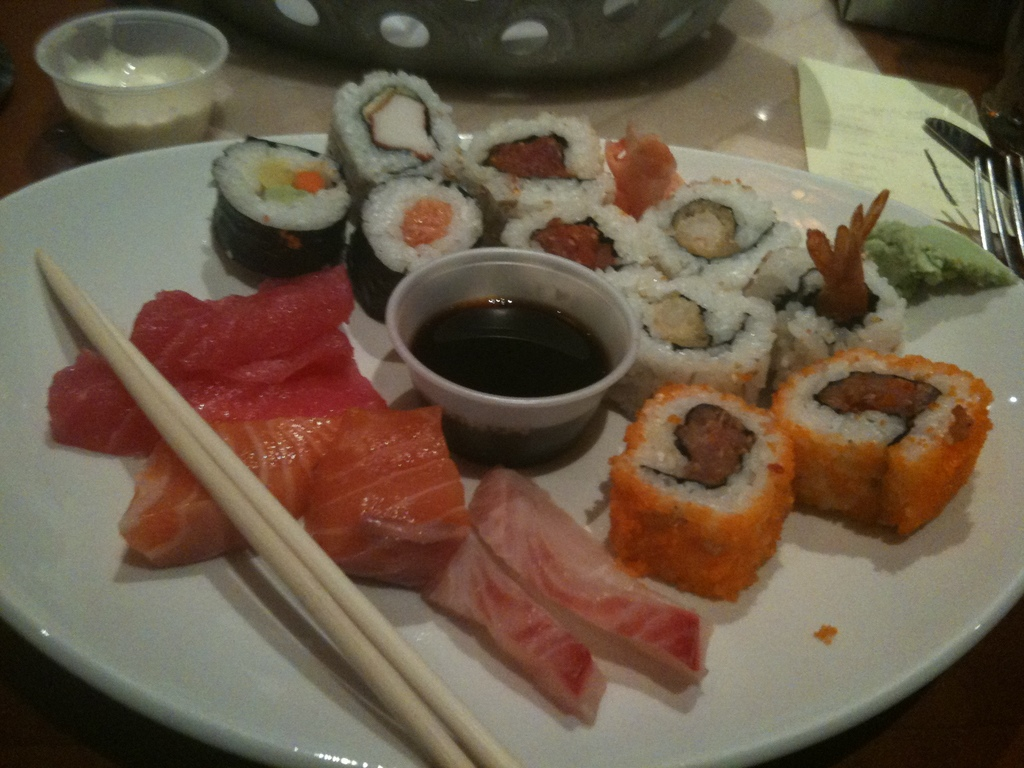sushi: (209, 64, 991, 601), (611, 385, 785, 625)
